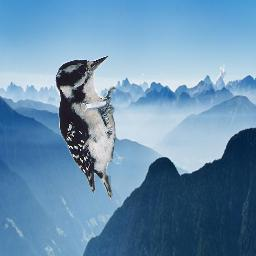Woodpecker: (55, 56, 119, 202)
